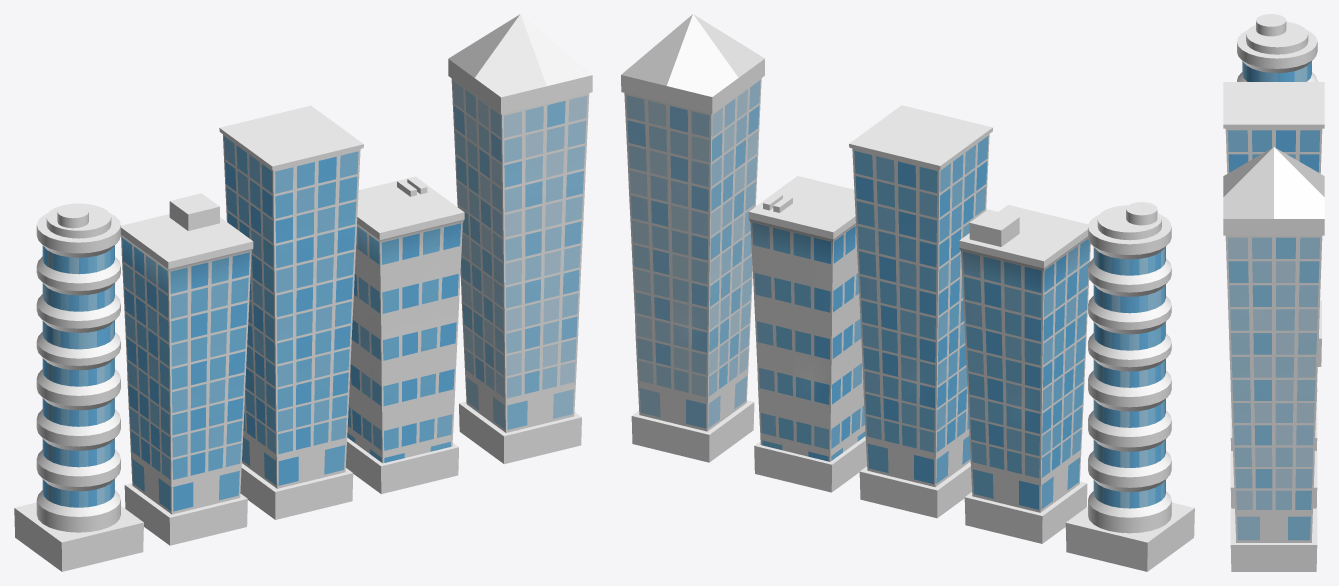
The model's file is BlueBuildings.fbx.
3 views of the same model, side by side, from view 1: azimuth 30°, elevation 25°; view 2: azimuth 150°, elevation 25°; view 3: azimuth 270°, elevation 25° (orthographic). The views are drawn at different scales.
Parts seen in each view (by area): view 1: BlueBuilding01.001, BlueBuilding01, BlueBuilding02, BlueBuilding03, BlueBuilding04; view 2: BlueBuilding01.001, BlueBuilding01, BlueBuilding02, BlueBuilding03, BlueBuilding04; view 3: BlueBuilding01.001, BlueBuilding01, BlueBuilding04, BlueBuilding03.
Part boxes in pixels (x1=…): BlueBuilding01.001: x1=448, y1=14, x2=592, y2=464; BlueBuilding01: x1=219, y1=105, x2=363, y2=519; BlueBuilding02: x1=120, y1=193, x2=253, y2=545; BlueBuilding03: x1=346, y1=176, x2=464, y2=494; BlueBuilding04: x1=14, y1=203, x2=143, y2=571; BlueBuilding01.001: x1=621, y1=14, x2=764, y2=462; BlueBuilding01: x1=849, y1=105, x2=992, y2=518; BlueBuilding02: x1=959, y1=205, x2=1090, y2=543; BlueBuilding03: x1=748, y1=176, x2=866, y2=492; BlueBuilding04: x1=1065, y1=202, x2=1194, y2=571; BlueBuilding01.001: x1=1223, y1=147, x2=1324, y2=571; BlueBuilding01: x1=1223, y1=82, x2=1324, y2=450; BlueBuilding04: x1=1237, y1=14, x2=1321, y2=366; BlueBuilding03: x1=1230, y1=451, x2=1317, y2=508.
Bounding box in the file's own units: 780 × 601 × 136.
